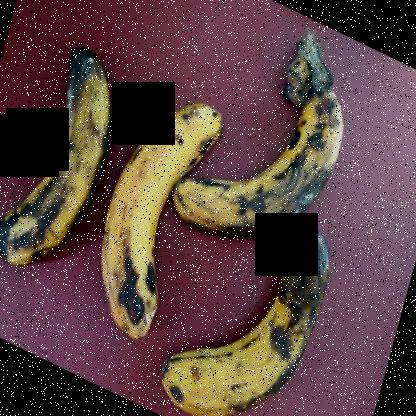overripe: (89, 95, 214, 347)
rotten: (161, 223, 338, 415), (169, 84, 352, 240), (0, 32, 109, 287)
